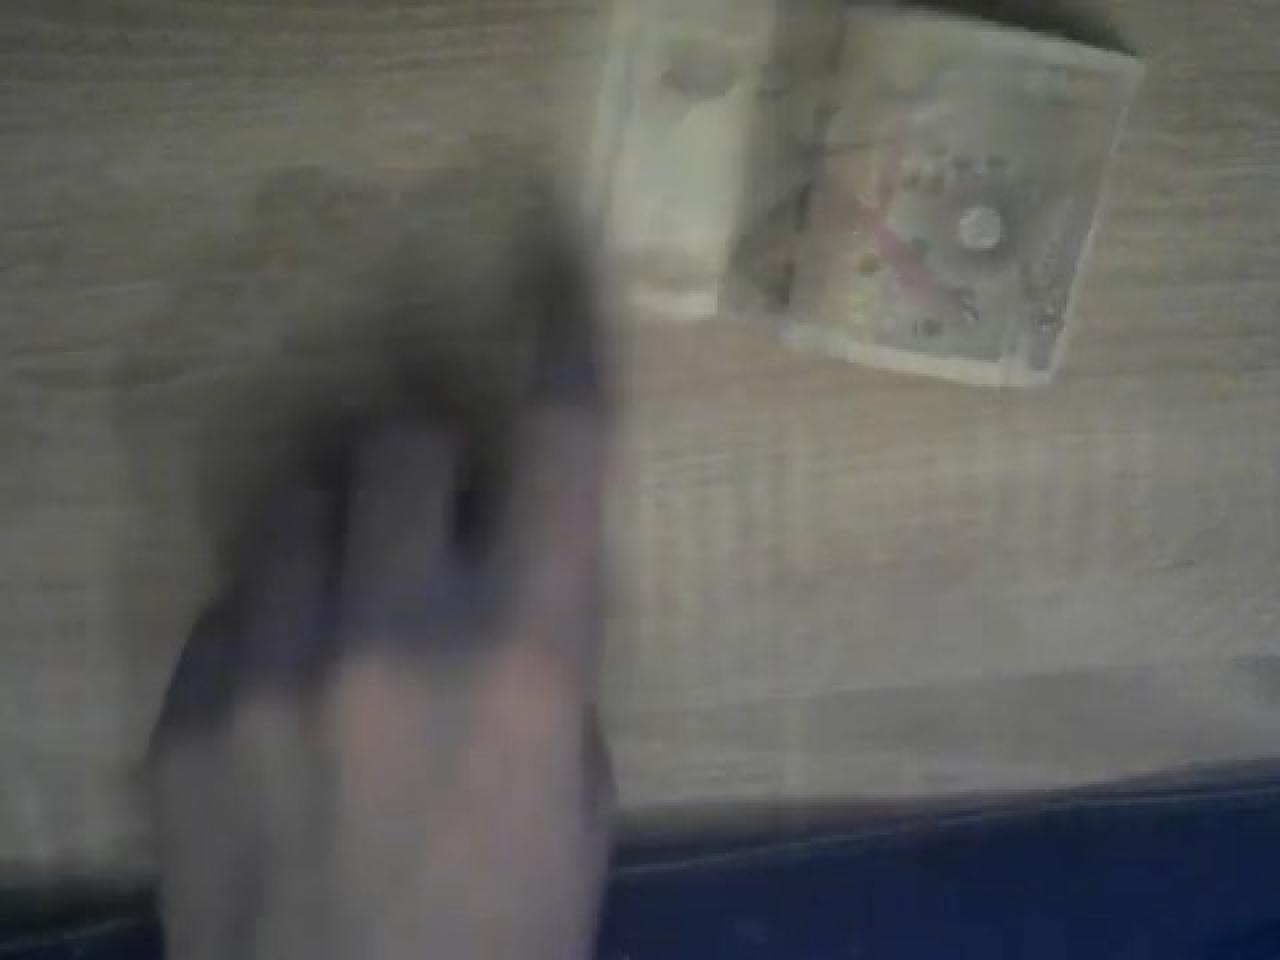10leva: (707, 0, 1144, 386)
